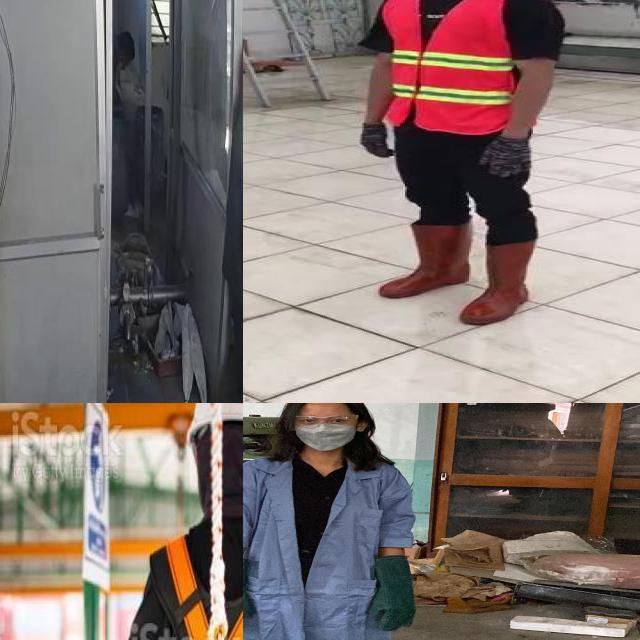boots: (376, 223, 474, 299), (462, 238, 536, 327)
face_mask: (288, 410, 358, 452)
glasses: (282, 411, 360, 428)
hand_glove: (359, 589, 423, 634), (476, 135, 533, 178), (358, 120, 399, 158), (243, 583, 263, 637)
head_nohelmet: (277, 403, 368, 412)
person: (349, 0, 570, 326), (243, 403, 457, 640)
vest: (376, 0, 550, 136)
